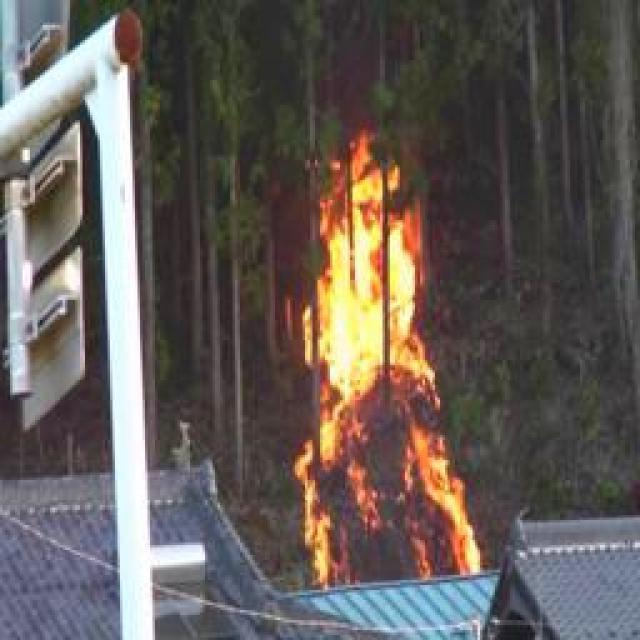Fire: (292, 146, 481, 585)
